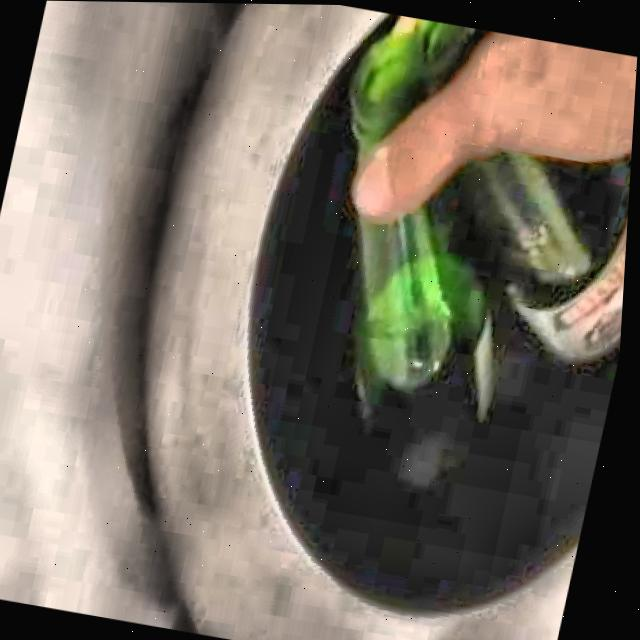glass: (362, 148, 633, 387), (351, 16, 491, 159)
